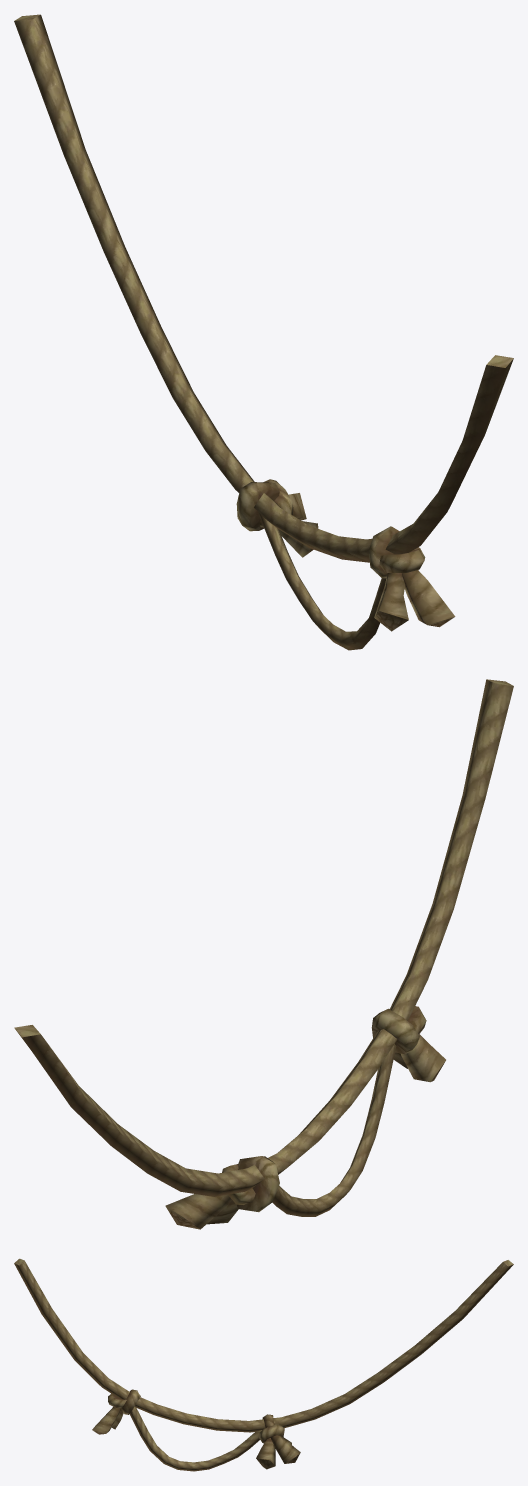
3 renders of one model, top to bottom at view 1: azimuth 30°, elevation 25°; view 2: azimuth 150°, elevation 25°; view 3: azimuth 270°, elevation 25°, orthographic. The views are drawn at different scales.
Bounding box in the file's own units: 0.6489 × 2.51 × 5.39.
2 materials, 2 textured.
